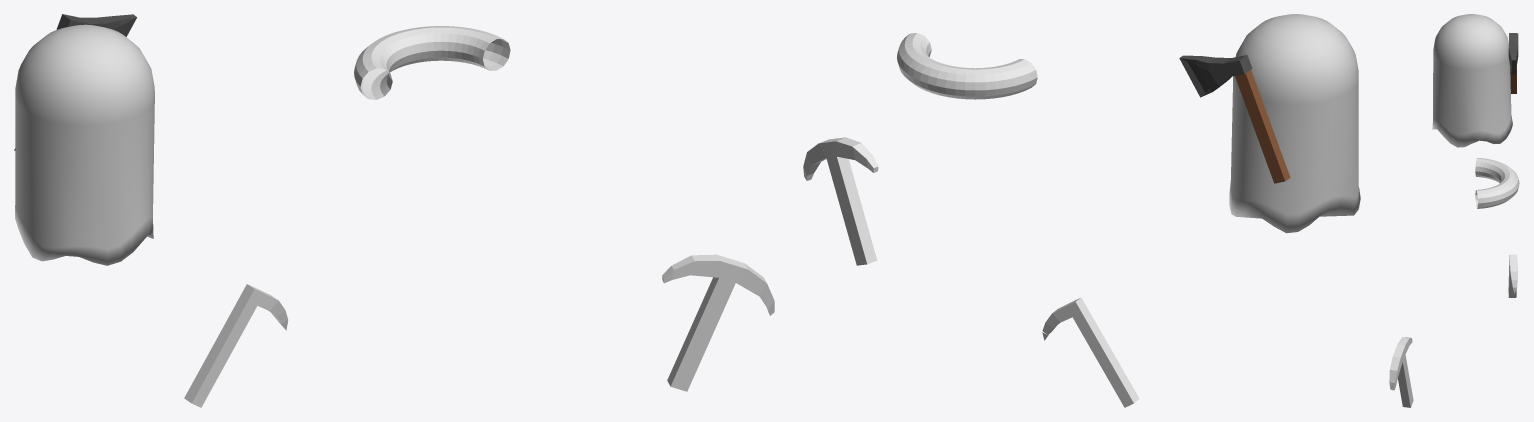
The model's file is Phantom_Chasseur.fbx.
3 renders of one model, left to right at view 1: azimuth 30°, elevation 25°; view 2: azimuth 150°, elevation 25°; view 3: azimuth 270°, elevation 25°, orthographic. The views are drawn at different scales.
Parts seen in each view (by area): view 1: Cylindre.001, Tore, Cube, Cube.001, Cube.003; view 2: Cylindre.001, Tore, Cube, Cube.003, Cube.001; view 3: Cylindre.001, Tore, Cube, Cube.003, Cube.001.
Boxes of the visible parts, bbox=[...] form: Cylindre.001: bbox=[15, 24, 154, 265]; Tore: bbox=[354, 26, 510, 99]; Cube: bbox=[662, 254, 774, 391]; Cube.001: bbox=[184, 284, 288, 407]; Cube.003: bbox=[14, 14, 136, 150]; Cylindre.001: bbox=[1229, 14, 1360, 233]; Tore: bbox=[897, 33, 1037, 99]; Cube: bbox=[803, 137, 878, 265]; Cube.003: bbox=[1179, 55, 1290, 183]; Cube.001: bbox=[1042, 297, 1139, 407]; Cylindre.001: bbox=[1432, 14, 1512, 147]; Tore: bbox=[1475, 158, 1519, 208]; Cube: bbox=[1389, 337, 1413, 407]; Cube.003: bbox=[1508, 33, 1518, 93]; Cube.001: bbox=[1508, 254, 1518, 297].
Bounding box in the file's own units: 1120 × 702 × 339.
